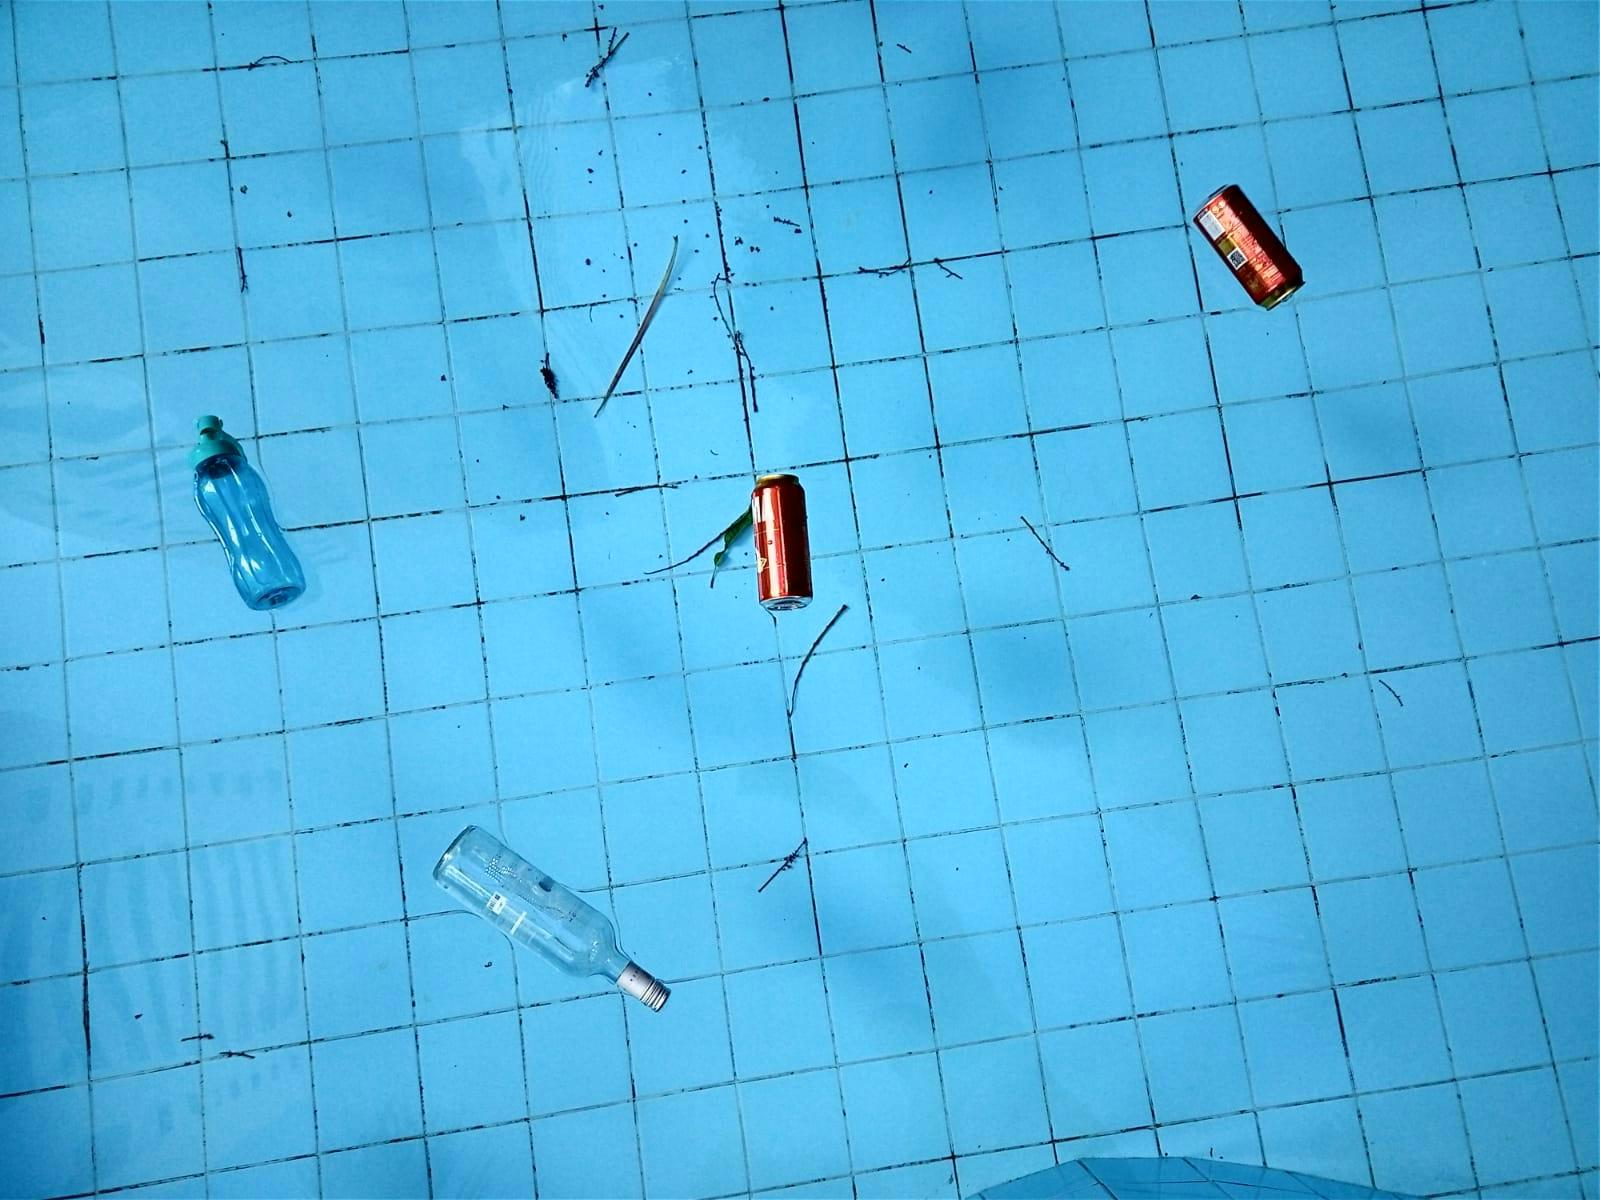Metal: (1145, 170, 1325, 320), (723, 466, 842, 624)
Plastic: (377, 784, 706, 1026), (136, 383, 335, 634)
